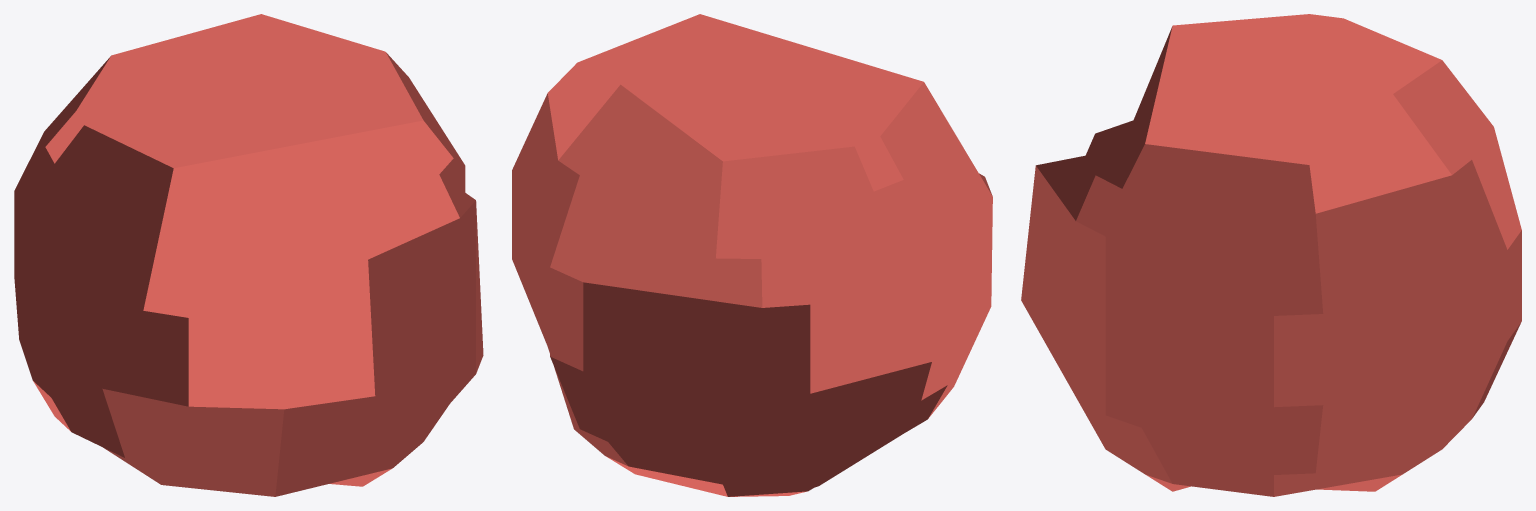
File: showhide.gltf
The picture shows the model from 3 angles, left to right: view 1: azimuth 30°, elevation 25°; view 2: azimuth 150°, elevation 25°; view 3: azimuth 270°, elevation 25°; orthographic projection. The views are drawn at different scales.
Parts seen in each view (by area): view 1: showhide; view 2: showhide; view 3: showhide.
Boxes of the visible parts, x1=… form: showhide: x1=14, y1=14, x2=483, y2=496; showhide: x1=512, y1=14, x2=992, y2=496; showhide: x1=1021, y1=14, x2=1521, y2=496.
Size of the model in its own units: 0.4908 by 0.4435 by 0.4908.
